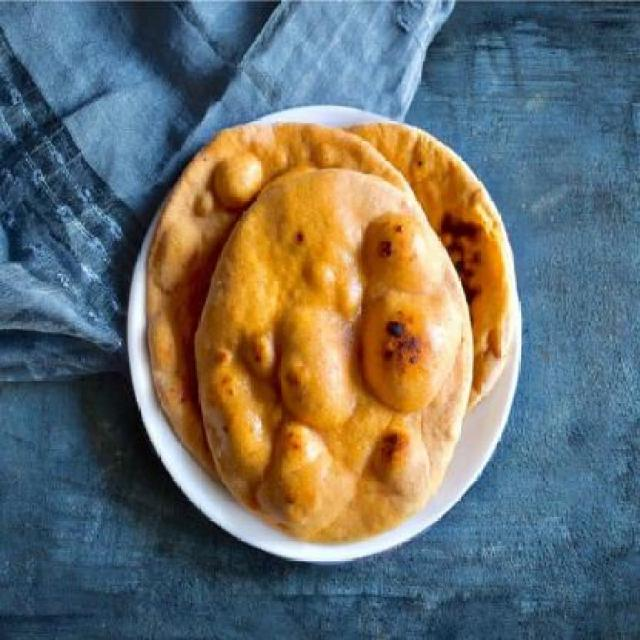chapati: (144, 122, 516, 546)
